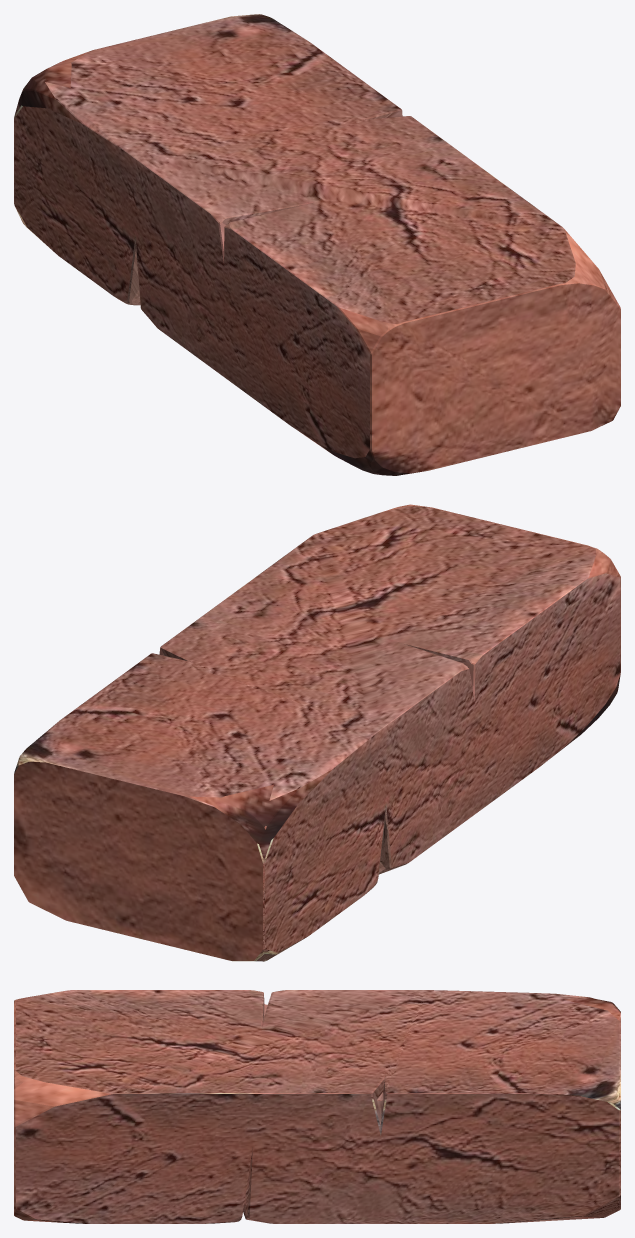
File: Brick.fbx
3 views of the same model, one above another, from view 1: azimuth 30°, elevation 25°; view 2: azimuth 150°, elevation 25°; view 3: azimuth 270°, elevation 25° (orthographic). The views are drawn at different scales.
Visible parts, largest first — view 1: Cube; view 2: Cube; view 3: Cube.
Part boxes in pixels (box(x1,y1,x2,y2)): Cube: box(14, 14, 620, 475); Cube: box(14, 504, 620, 961); Cube: box(14, 990, 620, 1223).
Bounding box in the file's own units: 0.3611 × 0.2122 × 0.8928.
